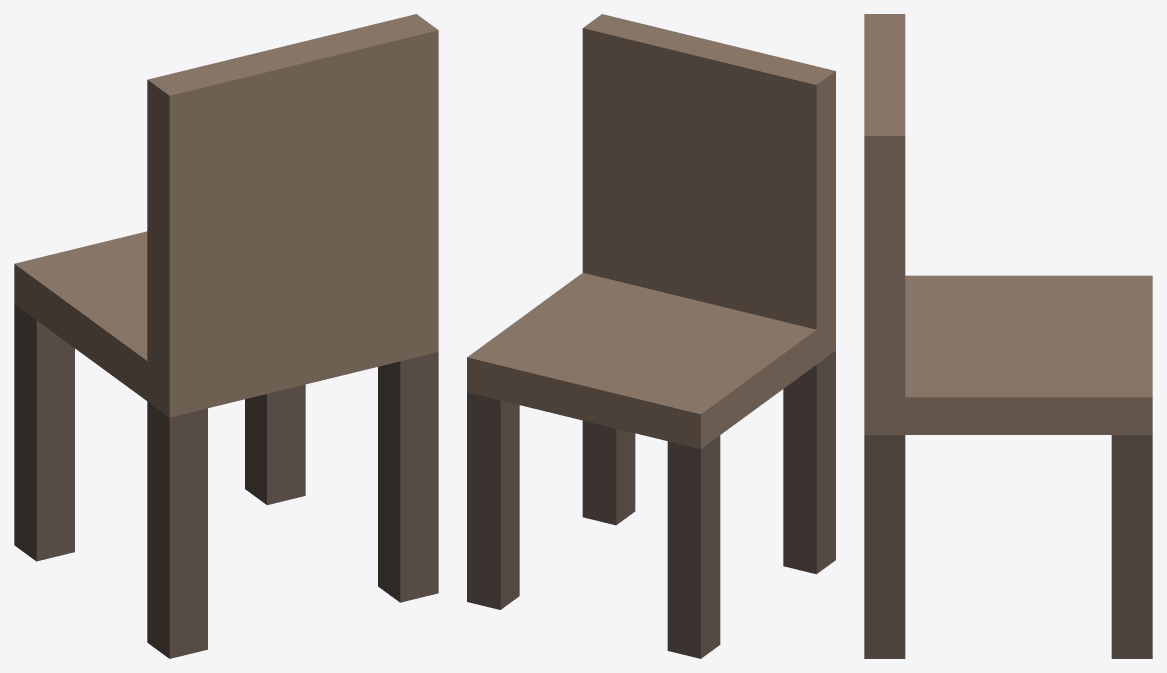
File: chaise.glb
3 views of the same model, side by side, from view 1: azimuth 30°, elevation 25°; view 2: azimuth 150°, elevation 25°; view 3: azimuth 270°, elevation 25° (orthographic). The views are drawn at different scales.
Visible parts, largest first — view 1: main; view 2: main; view 3: main.
Part boxes in pixels (x1=…): main: x1=14, y1=14, x2=438, y2=658; main: x1=467, y1=14, x2=835, y2=658; main: x1=864, y1=14, x2=1152, y2=658.
Bounding box in the file's own units: 0.4375 × 0.875 × 0.4375.
